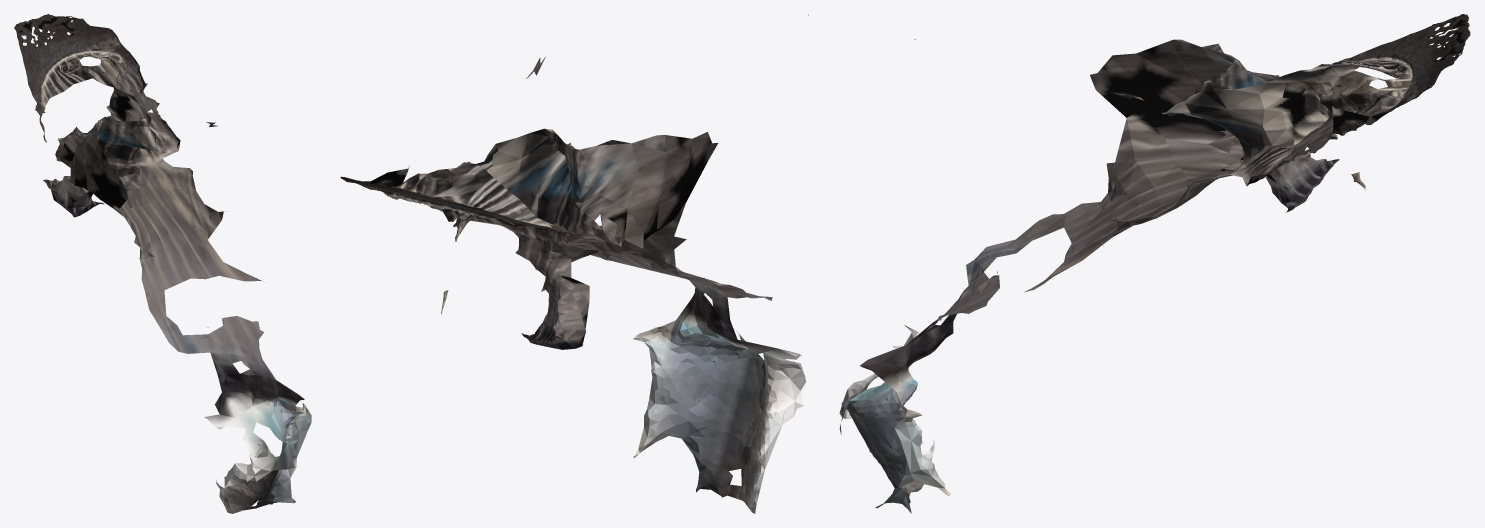
Rendered from texturedMesh.obj.
3 renders of one model, left to right at view 1: azimuth 30°, elevation 25°; view 2: azimuth 150°, elevation 25°; view 3: azimuth 270°, elevation 25°, orthographic. The views are drawn at different scales.
Parts seen in each view (by area): view 1: TexturedMesh; view 2: TexturedMesh; view 3: TexturedMesh.
Part boxes in pixels (x1,y1,x2,y2): TexturedMesh: (14, 14, 311, 513); TexturedMesh: (340, 14, 808, 513); TexturedMesh: (839, 14, 1470, 513).
Size of the model in its own units: 1.66 by 4.44 by 5.41.
Materials: 1 (1 with a texture image).
